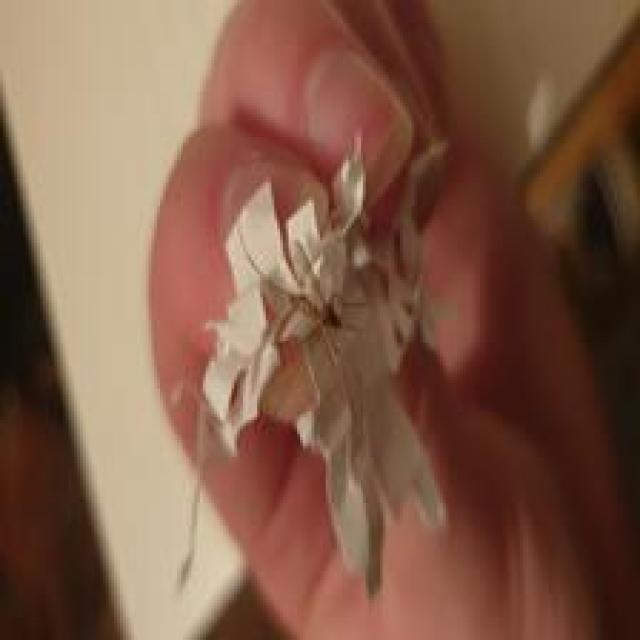Culex: (147, 0, 462, 600)
